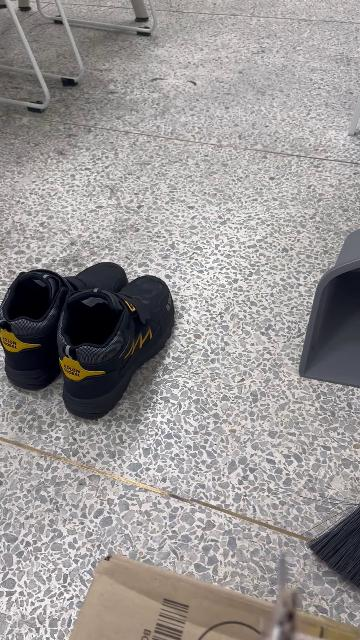shoe_worn: (60, 273, 175, 422), (1, 263, 128, 392)
